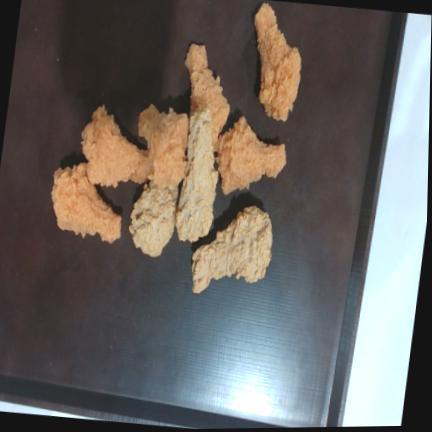chicken: (192, 206, 273, 293), (52, 163, 122, 243), (82, 106, 151, 187), (176, 110, 218, 242), (216, 116, 286, 194), (185, 44, 230, 147), (139, 104, 189, 188), (129, 182, 178, 256)
